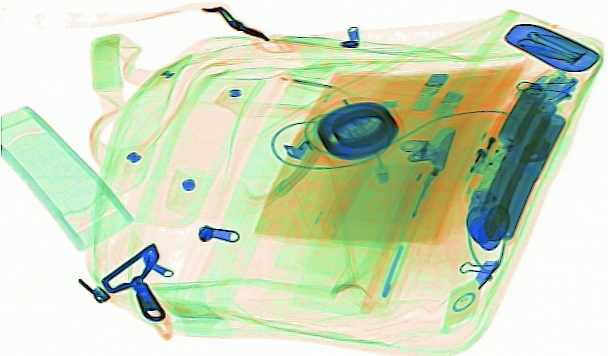lighter: (467, 92, 523, 175)
powerbank: (472, 81, 570, 245)
